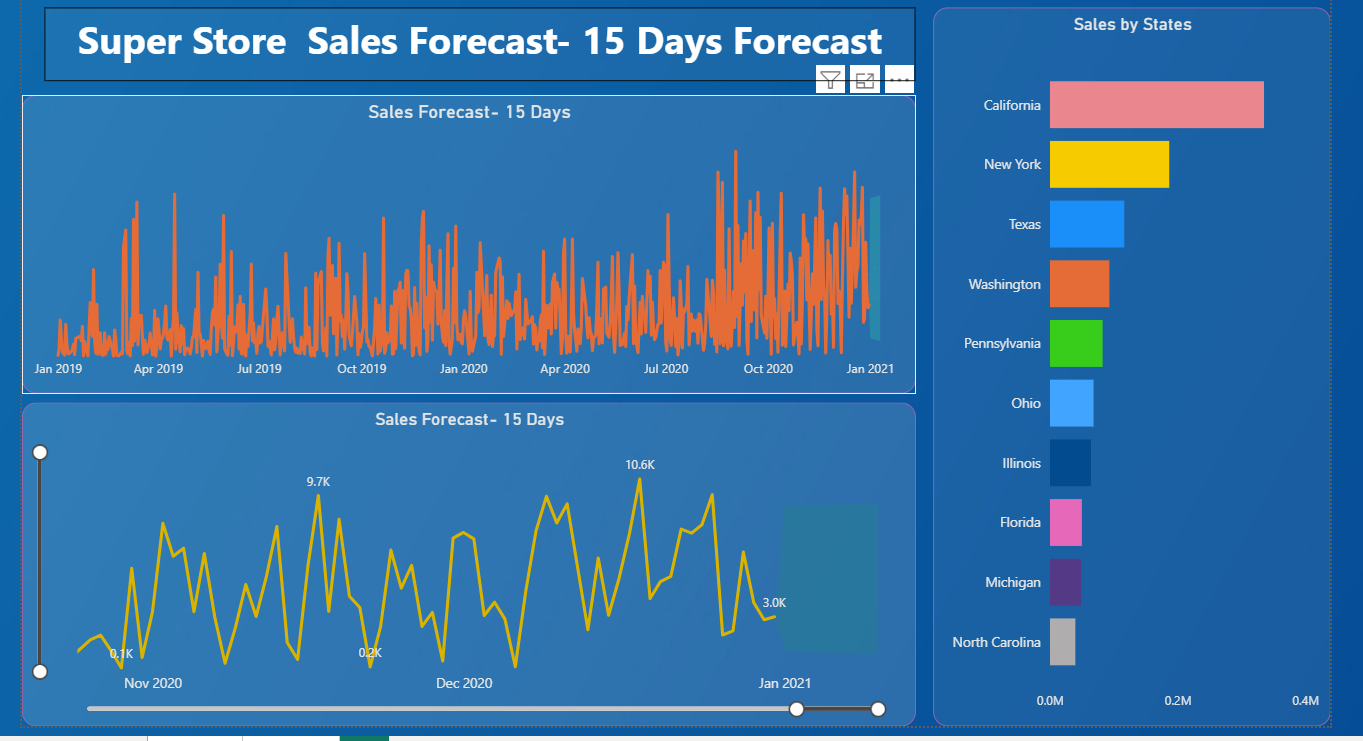

The dashboard page shown, as its layout file describes it:
{"tool":"powerbi","page":{"name":"Page 2","canvas":[1280,720],"ordinal":1},"visuals":[{"type":"lineChart","title":"Sales Forecast- 15 Days","fields":{"Y":["Sum(Sheet1.Sales)"],"Category":["Sheet1.Order Date"]},"box":[0,102.7,874.3,292.3],"z":0},{"type":"lineChart","title":"Sales Forecast- 15 Days","fields":{"Y":["Sum(Sheet1.Sales)"],"Category":["Sheet1.Order Date"]},"box":[0,403.5,874.3,316.7],"z":1000},{"type":"clusteredBarChart","title":"Sales by States","fields":{"Y":["Sum(Sheet1.Sales)"],"Category":["Sheet1.State"]},"box":[891.4,17.1,388.9,703.1],"z":2000},{"type":"textbox","box":[22,17.1,852.3,72.1],"z":3000}]}

Visuals, with their boxes on the page's 1280x720 design canvas (x1, y1, x2, y2). These are canvas units, not pixel positions in the 1363x741 screenshot, which may show the page scaled, cropped or inside an application window:
"Sales Forecast- 15 Days" lineChart: 0:103:874:395
"Sales Forecast- 15 Days" lineChart: 0:404:874:720
"Sales by States" clusteredBarChart: 891:17:1280:720
textbox: 22:17:874:89
